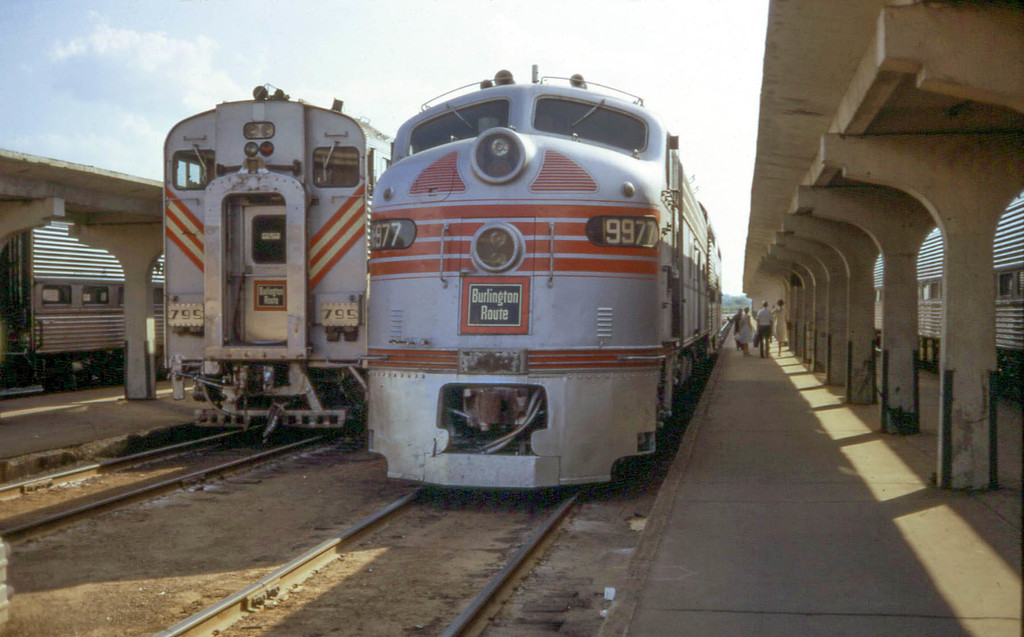train: (362, 58, 723, 487)
